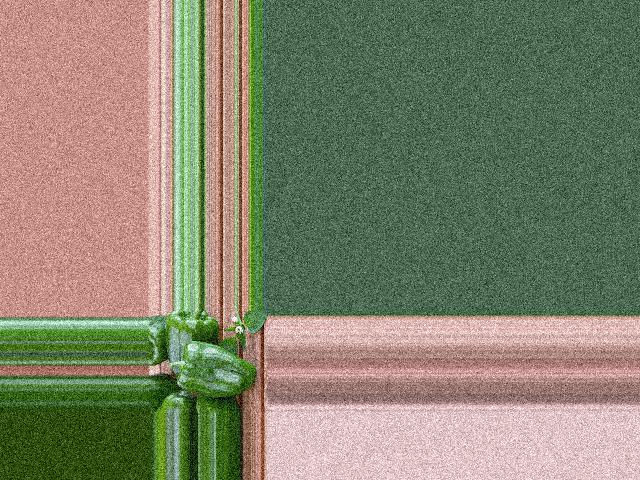bell_pepper: (152, 388, 189, 414)
